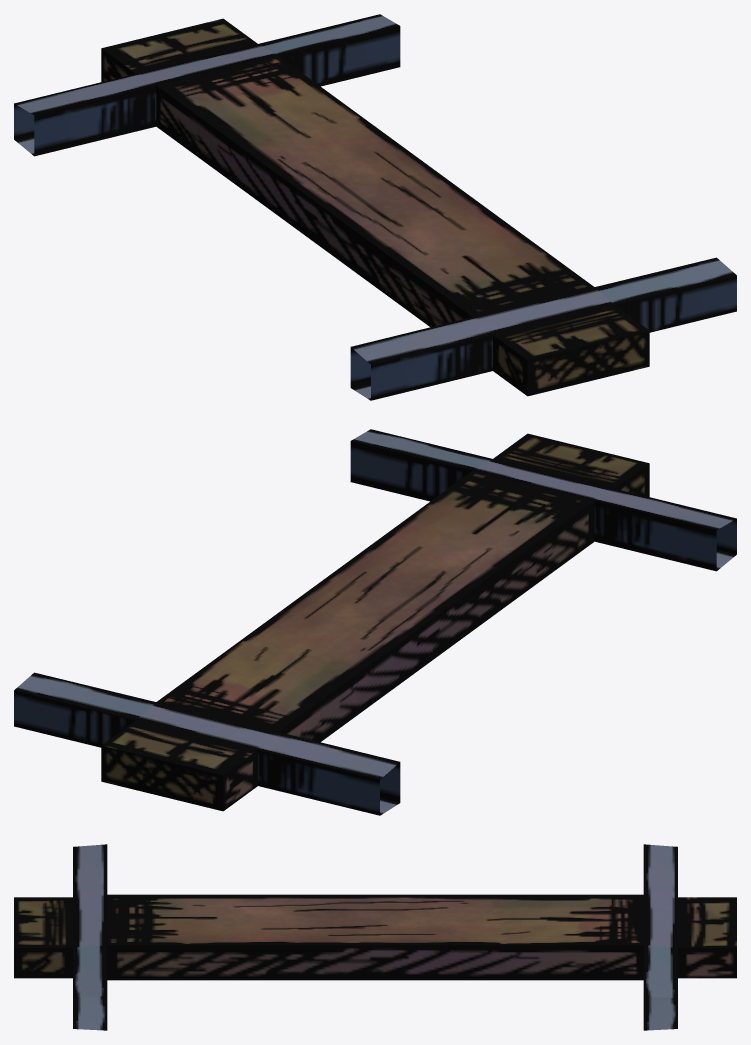
File: 1_track.fbx
3 renders of one model, top to bottom at view 1: azimuth 30°, elevation 25°; view 2: azimuth 150°, elevation 25°; view 3: azimuth 270°, elevation 25°, orthographic. The views are drawn at different scales.
Visible parts, largest first — view 1: 1_track; view 2: 1_track; view 3: 1_track.
Boxes of the visible parts, bbox=[...] form: 1_track: bbox=[14, 14, 736, 400]; 1_track: bbox=[14, 429, 736, 815]; 1_track: bbox=[14, 844, 736, 1030].
Bounding box in the file's own units: 255 × 27.44 × 514.
